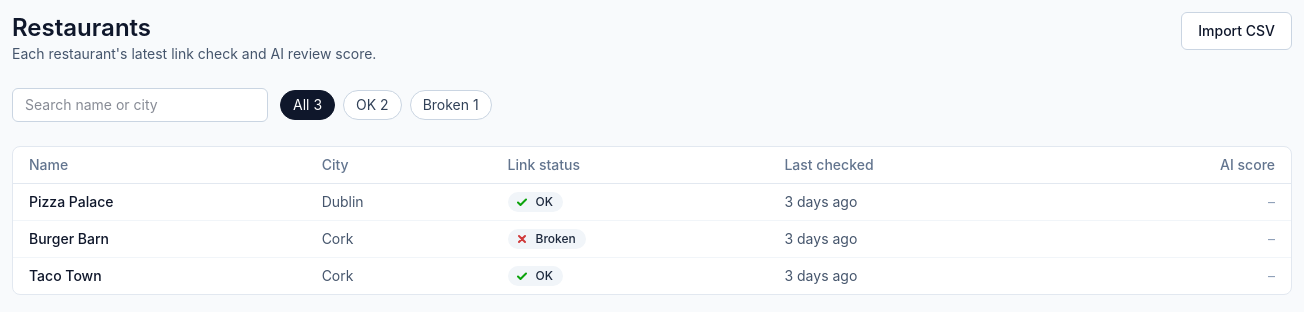
Test case: RestaurantsPage › lists restaurants and filters by status and search
Expected: the button "Pizza Palace" is shown, [29,192,114,212]
Click the button "Broken 1" at (451, 105), box [410,90,492,120]
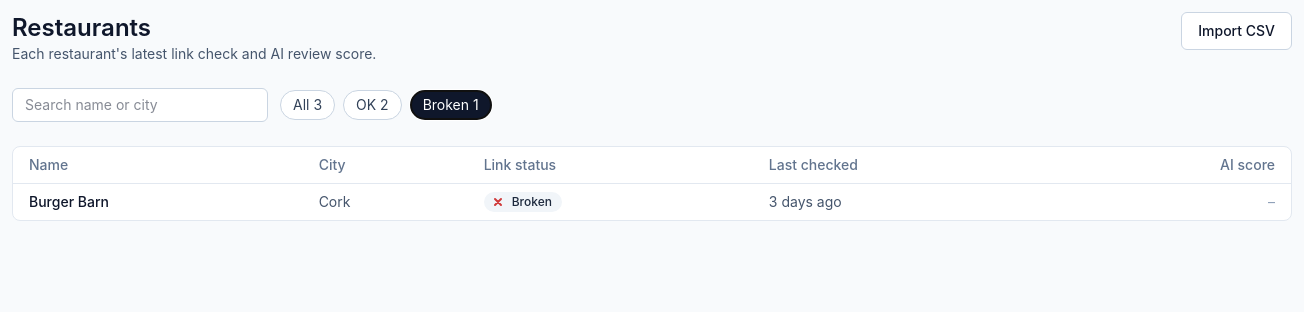
Click the button "All 3" at (308, 105), box [280,90,335,120]
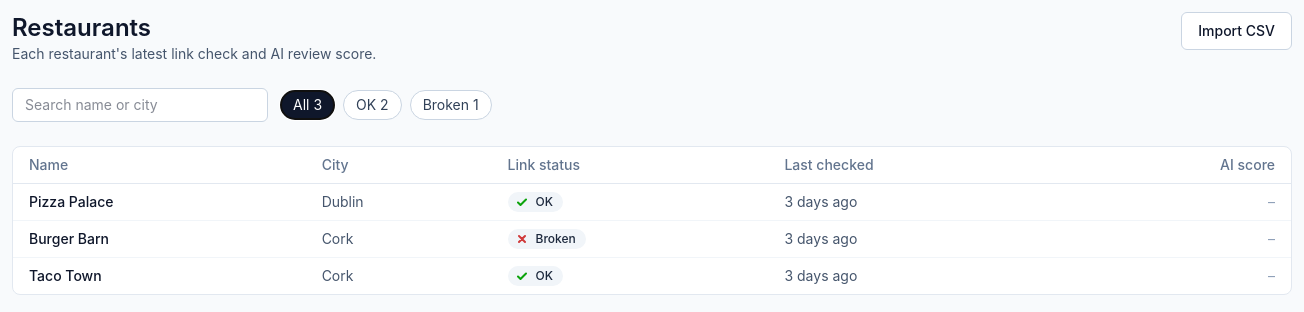
Type "cork" into the search field at (140, 105), box [12,88,268,122]
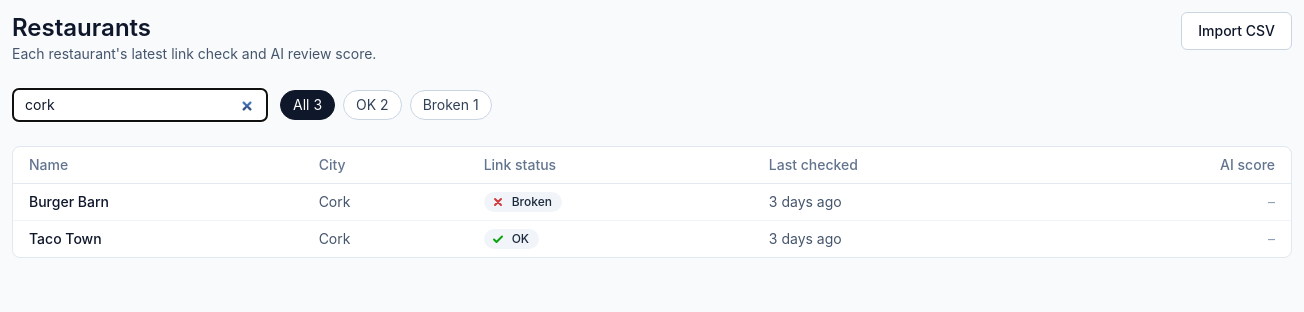
Replace the text in the search field with "nowhere" at (140, 105), box [12,88,268,122]
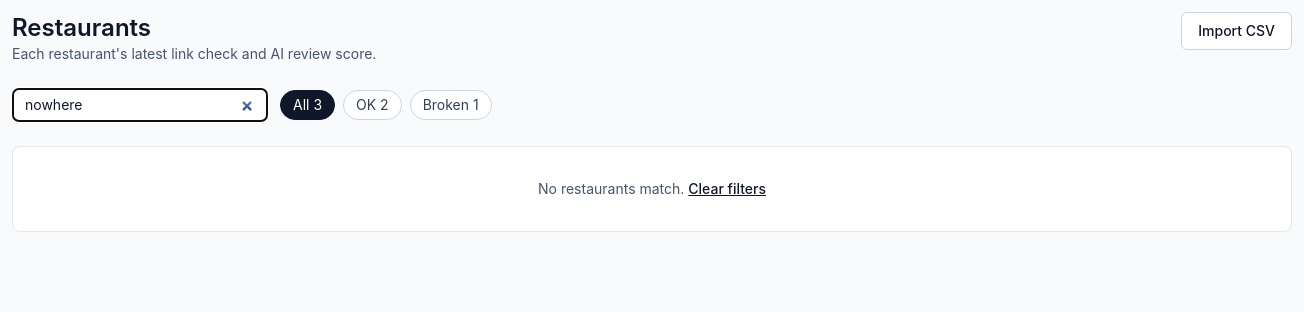
Now the text "No restaurants match. Clear filters" is shown, box [12,146,1292,232]
